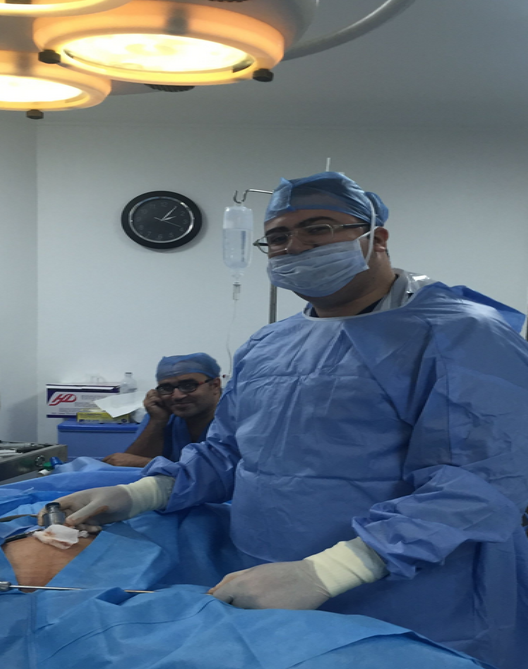mask_weared_incorrect: (245, 176, 389, 302)
